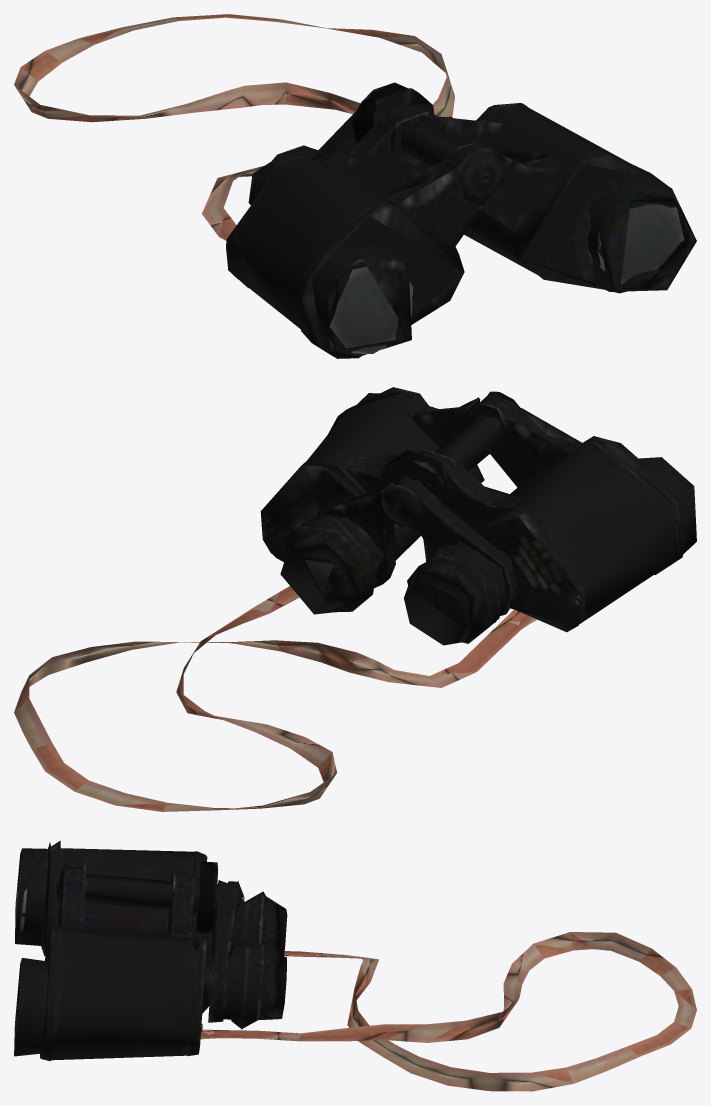
The model's file is binoculars.gltf.
3 views of the same model, one above another, from view 1: azimuth 30°, elevation 25°; view 2: azimuth 150°, elevation 25°; view 3: azimuth 270°, elevation 25° (orthographic). The views are drawn at different scales.
Parts seen in each view (by area): view 1: binoculars_right, binoculars_left, binoculars_strap, binoculars_column; view 2: binoculars_right, binoculars_left, binoculars_strap, binoculars_column; view 3: binoculars_left, binoculars_strap, binoculars_right, binoculars_column.
Part boxes in pixels (<box>): binoculars_right: <box>226,112,482,358</box>; binoculars_left: <box>405,103,696,293</box>; binoculars_strap: <box>14,14,454,240</box>; binoculars_column: <box>352,82,507,205</box>; binoculars_right: <box>404,408,696,645</box>; binoculars_left: <box>260,387,490,614</box>; binoculars_strap: <box>14,586,537,811</box>; binoculars_column: <box>379,391,520,526</box>; binoculars_left: <box>14,882,286,1061</box>; binoculars_strap: <box>200,932,696,1091</box>; binoculars_right: <box>15,840,287,956</box>; binoculars_column: <box>56,861,244,933</box>.
Bounding box in the file's own units: 0.1654 × 0.0657 × 0.286.
2 materials, 2 textured.
